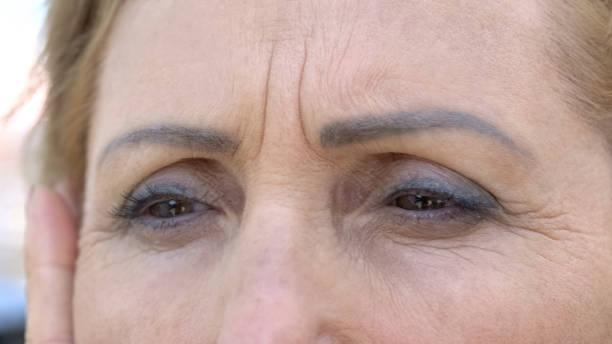Dry-Skin: (92, 9, 205, 162), (281, 1, 437, 105), (231, 50, 375, 145), (517, 65, 607, 191), (111, 298, 314, 344), (250, 221, 363, 296), (373, 266, 475, 344), (123, 235, 200, 316), (547, 168, 612, 259), (498, 285, 612, 331), (438, 0, 498, 66)
